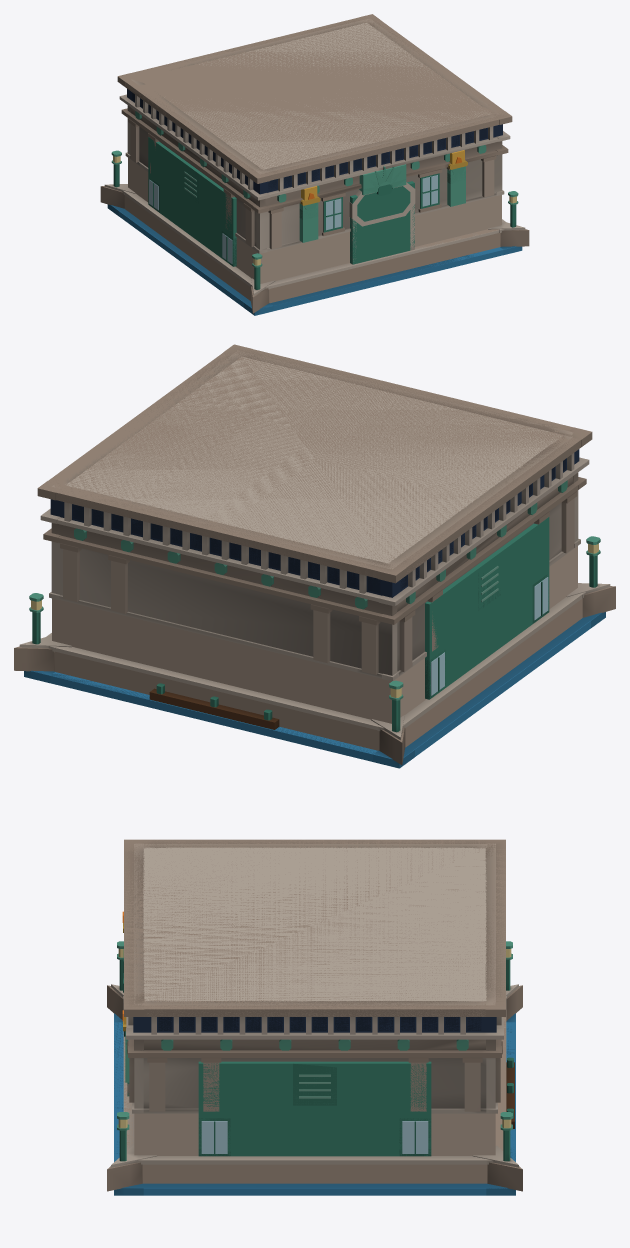
The model's file is StatueOfLibertyFloor.fbx.
3 views of the same model, one above another, from view 1: azimuth 30°, elevation 25°; view 2: azimuth 150°, elevation 25°; view 3: azimuth 270°, elevation 25° (orthographic). The views are drawn at different scales.
Parts seen in each view (by area): view 1: SL_S_All, SL_F_Smooth, SL_F_Rings, SL_F_Quiet, SL_F_Glass, SL_F_Props; view 2: SL_S_All, SL_F_Smooth, SL_F_Rings, SL_F_Quiet, SL_F_Props, SL_F_Glass; view 3: SL_S_All, SL_F_Smooth, SL_F_Rings, SL_F_Quiet, SL_F_Glass.
Part boxes in pixels (x1=…): SL_S_All: x1=111, y1=15, x2=522, y2=315; SL_F_Smooth: x1=100, y1=14, x2=529, y2=315; SL_F_Rings: x1=124, y1=19, x2=502, y2=302; SL_F_Quiet: x1=111, y1=205, x2=515, y2=308; SL_F_Glass: x1=113, y1=152, x2=516, y2=265; SL_F_Props: x1=299, y1=160, x2=467, y2=219; SL_S_All: x1=31, y1=345, x2=601, y2=768; SL_F_Smooth: x1=14, y1=344, x2=615, y2=768; SL_F_Rings: x1=51, y1=350, x2=578, y2=749; SL_F_Quiet: x1=31, y1=613, x2=600, y2=758; SL_F_Props: x1=149, y1=683, x2=279, y2=729; SL_F_Glass: x1=31, y1=543, x2=598, y2=697; SL_S_All: x1=114, y1=839, x2=515, y2=1195; SL_F_Smooth: x1=107, y1=839, x2=522, y2=1195; SL_F_Rings: x1=134, y1=843, x2=495, y2=1182; SL_F_Quiet: x1=114, y1=1013, x2=515, y2=1188; SL_F_Glass: x1=118, y1=911, x2=511, y2=1153.
Size of the model in its own units: 60 by 20 by 60.
